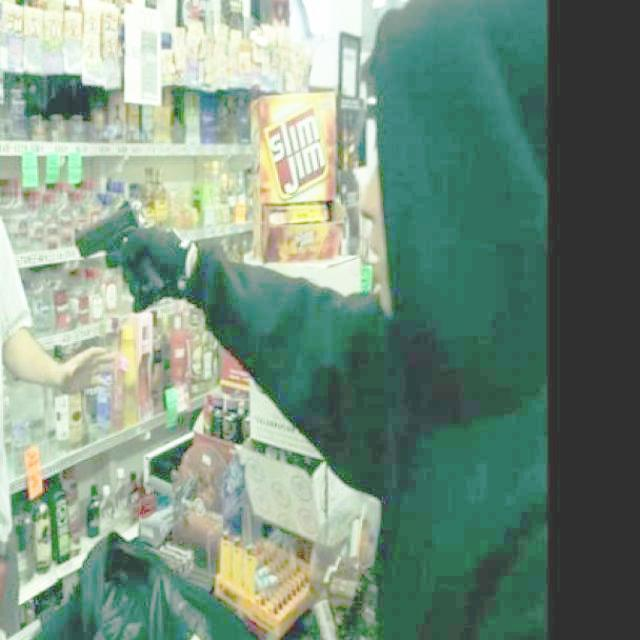Gun: (58, 185, 178, 297)
